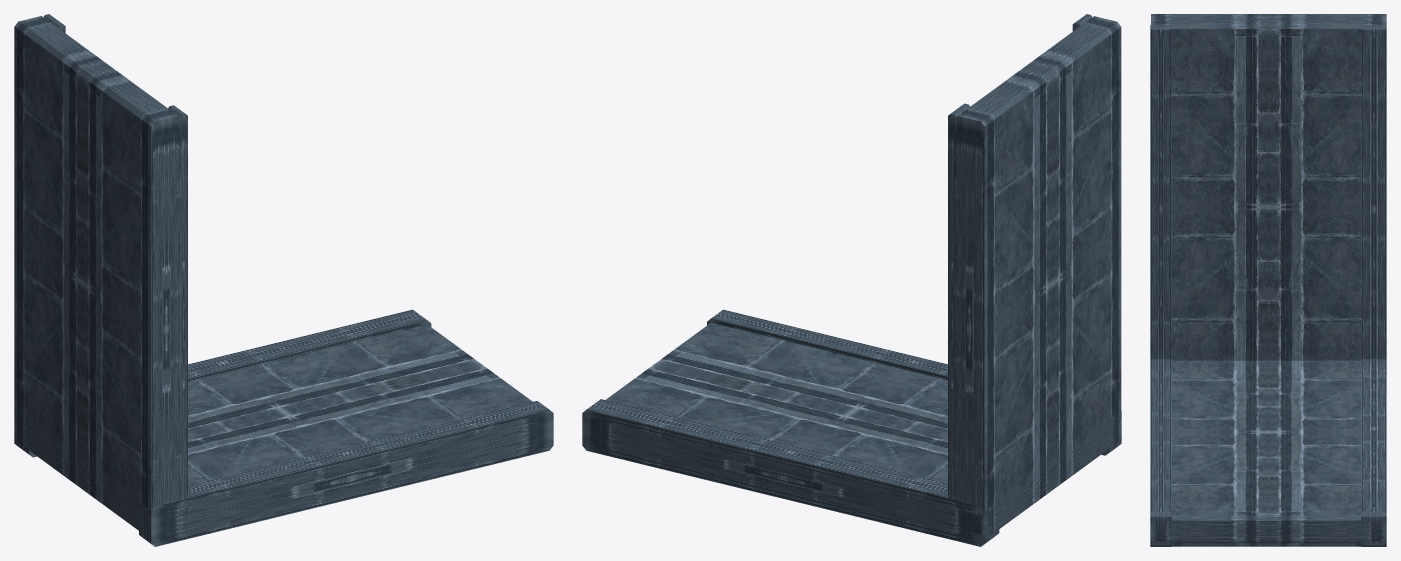
Rendered from rv_interior_corner.obj.
The picture shows the model from 3 angles, left to right: view 1: azimuth 30°, elevation 25°; view 2: azimuth 150°, elevation 25°; view 3: azimuth 270°, elevation 25°; orthographic projection. The views are drawn at different scales.
Parts seen in each view (by area): view 1: rv_interior_corner; view 2: rv_interior_corner; view 3: rv_interior_corner.
Boxes of the visible parts, x1,y1,x2,y2 form: rv_interior_corner: [14, 14, 553, 546]; rv_interior_corner: [582, 14, 1121, 546]; rv_interior_corner: [1150, 14, 1386, 546].
Size of the model in its own units: 8 by 8.2 by 4.71.
1 material, 1 textured.
